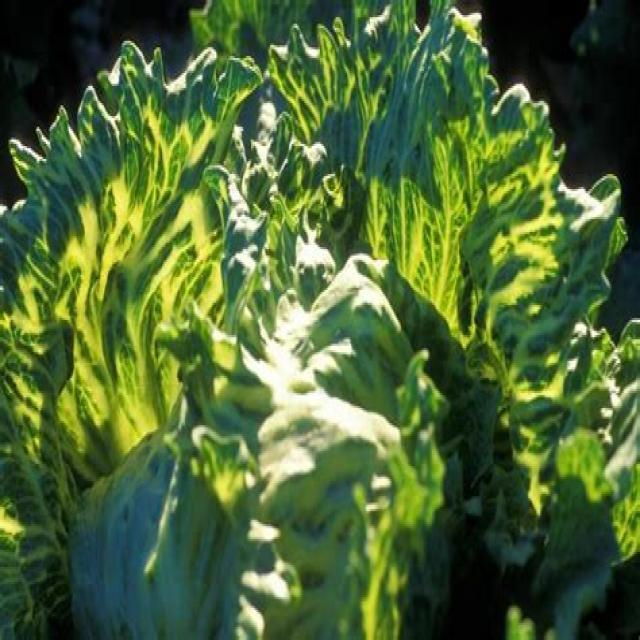Viral: (65, 150, 557, 611)
